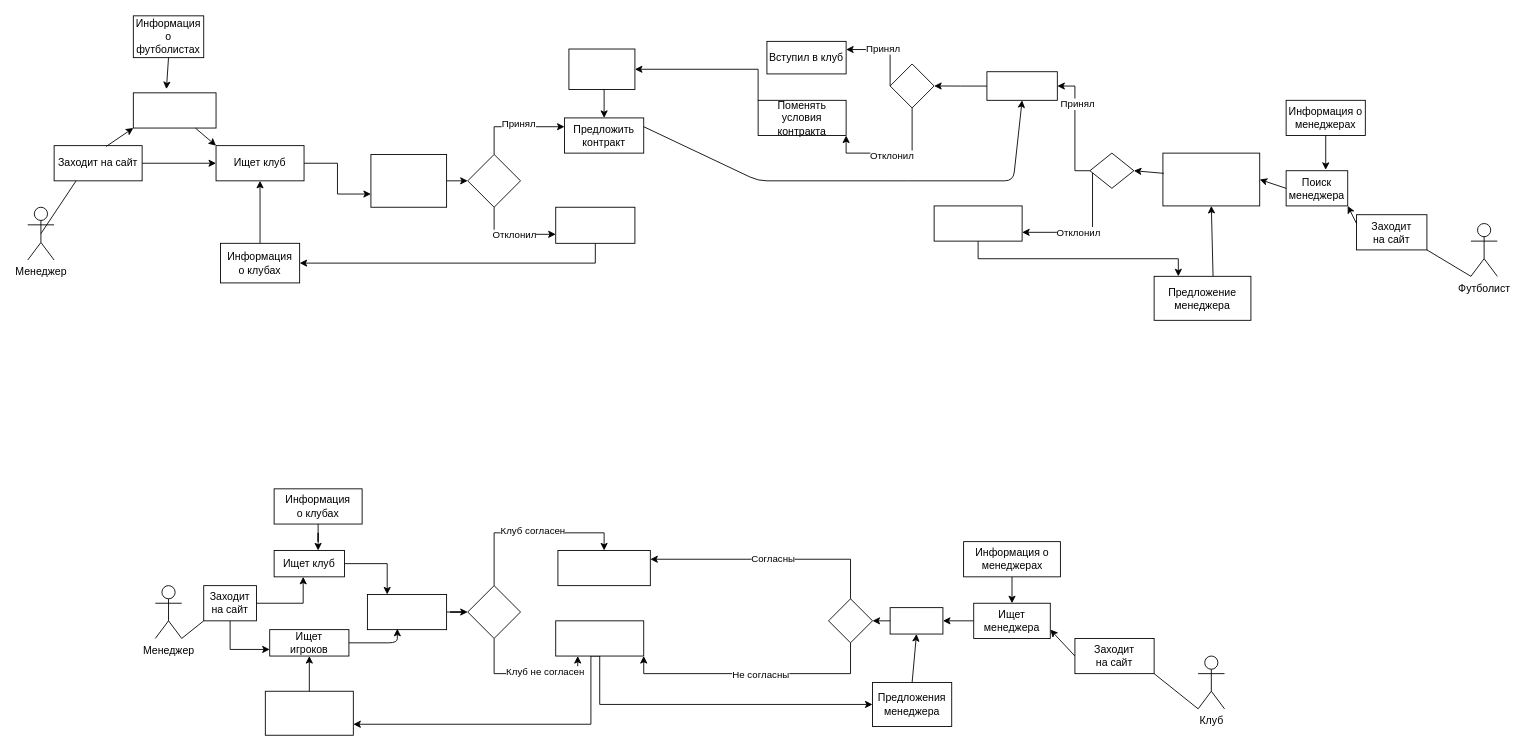
This 1525x751 diagram has some shape labels left out. The centre of each missing label's shape, as x and y in pixels:
"Информация о игроках" goes at (308,712).
"Информация о контрактах" goes at (601,68).
"Клуб ищет нового игрока" goes at (599,638).
"Клуб купил игрока" goes at (603,568).
"Купить игрока" goes at (916,620).
"Поиск нового клуба" goes at (595,224).
"Поиск новых предложений от менеджера" goes at (977,223).
"Поиск футболиста" goes at (174,110).
"Предложить игрока" goes at (407,612).
"Предложить переход в клуб" goes at (408,180).
"Просмотр предложения менеджера о клубах" goes at (1211,179).
"Просмотра контракта" goes at (1021,85).
